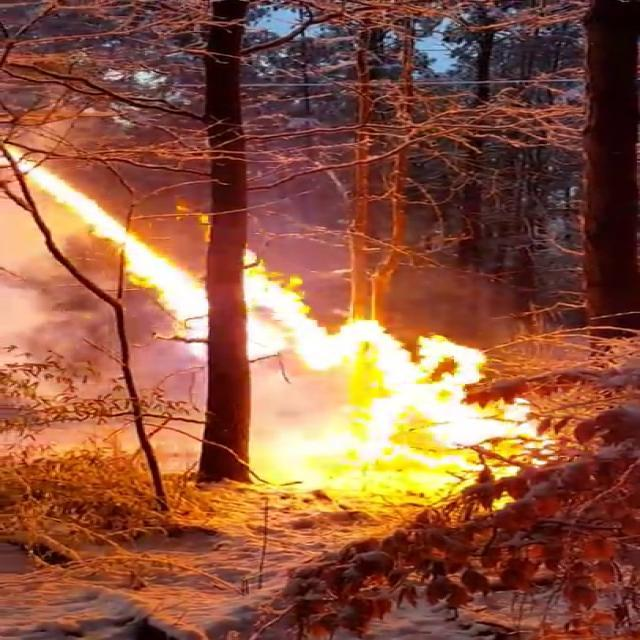Fire: (242, 251, 572, 513), (2, 134, 216, 340)
